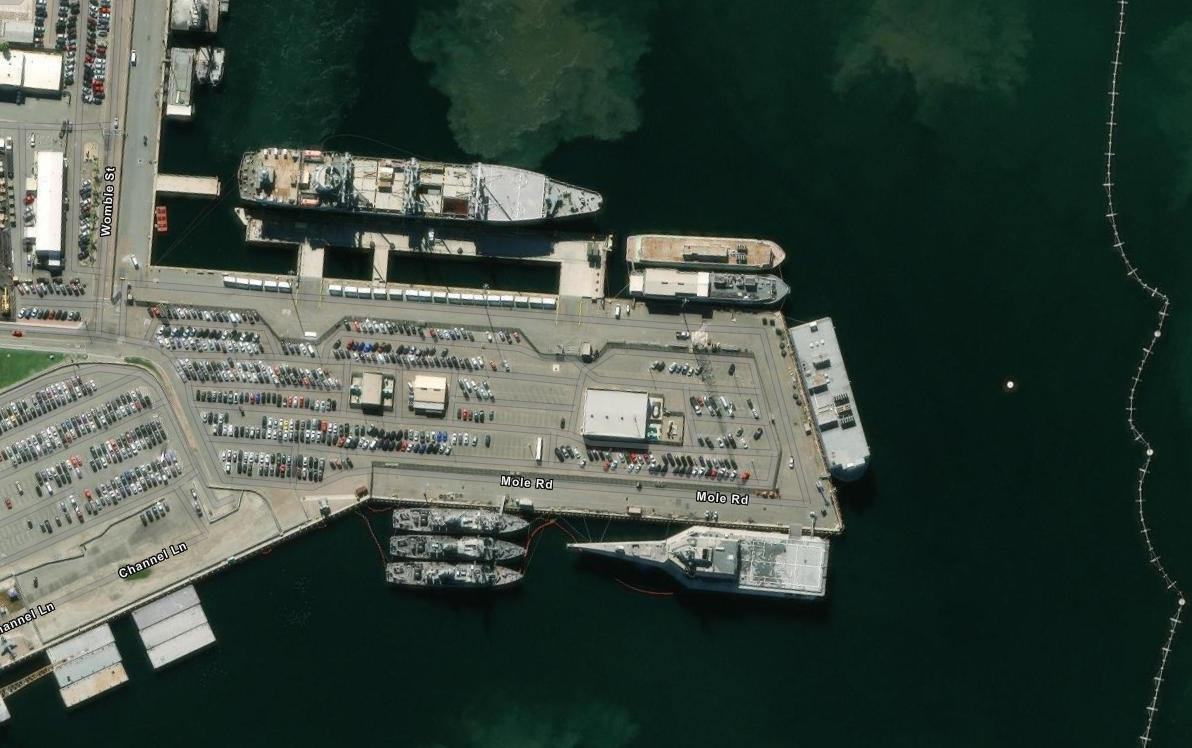littoral combat ship: (561, 516, 836, 607)
supply: (235, 142, 617, 239)
